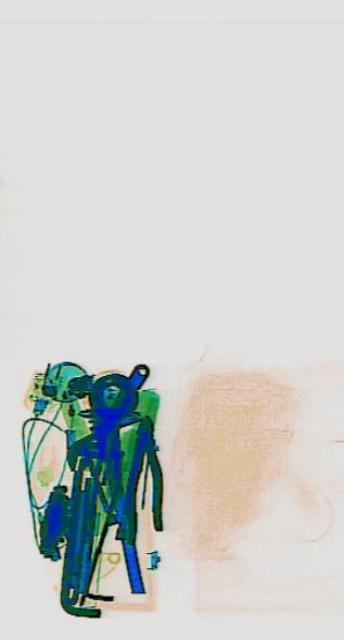Pliers: (122, 414, 161, 544)
